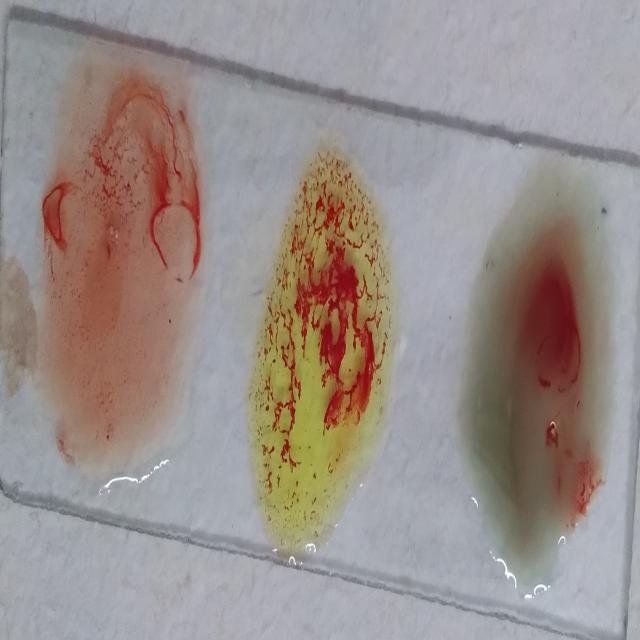B: (253, 152, 386, 546)
D: (45, 63, 196, 482)
